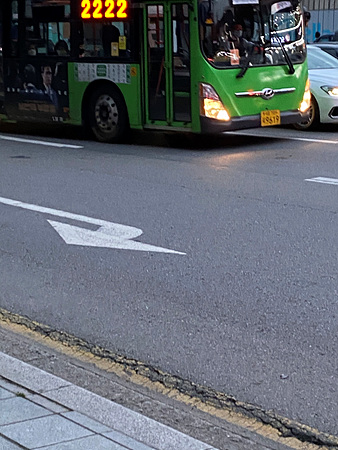entrance: (139, 2, 198, 134)
